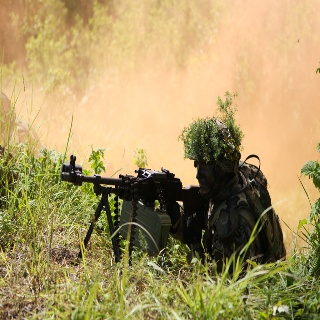rifle: (57, 155, 209, 261)
